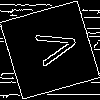V: (25, 25, 80, 71)
